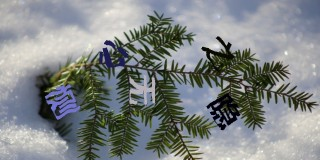之: (201, 35, 235, 71)
心: (98, 38, 129, 68)
恻: (44, 84, 80, 120)
无: (127, 74, 157, 106)
隐: (206, 92, 240, 132)
